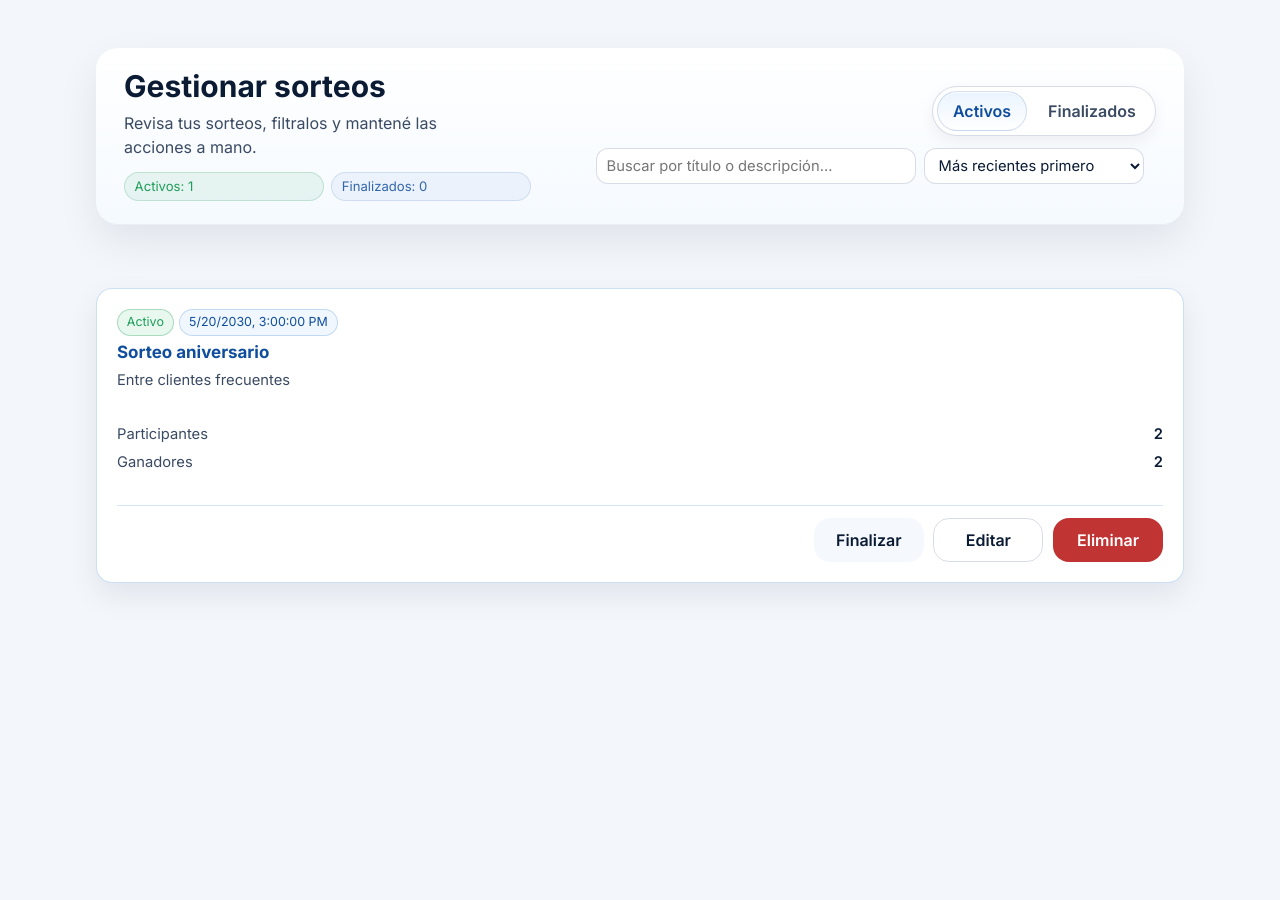
Scenario: ManageRaffles › abre el modal de edición con los datos cargados
The image size is (1280, 900).
Click the button "Editar" at (988, 540), box [933,518,1043,562]
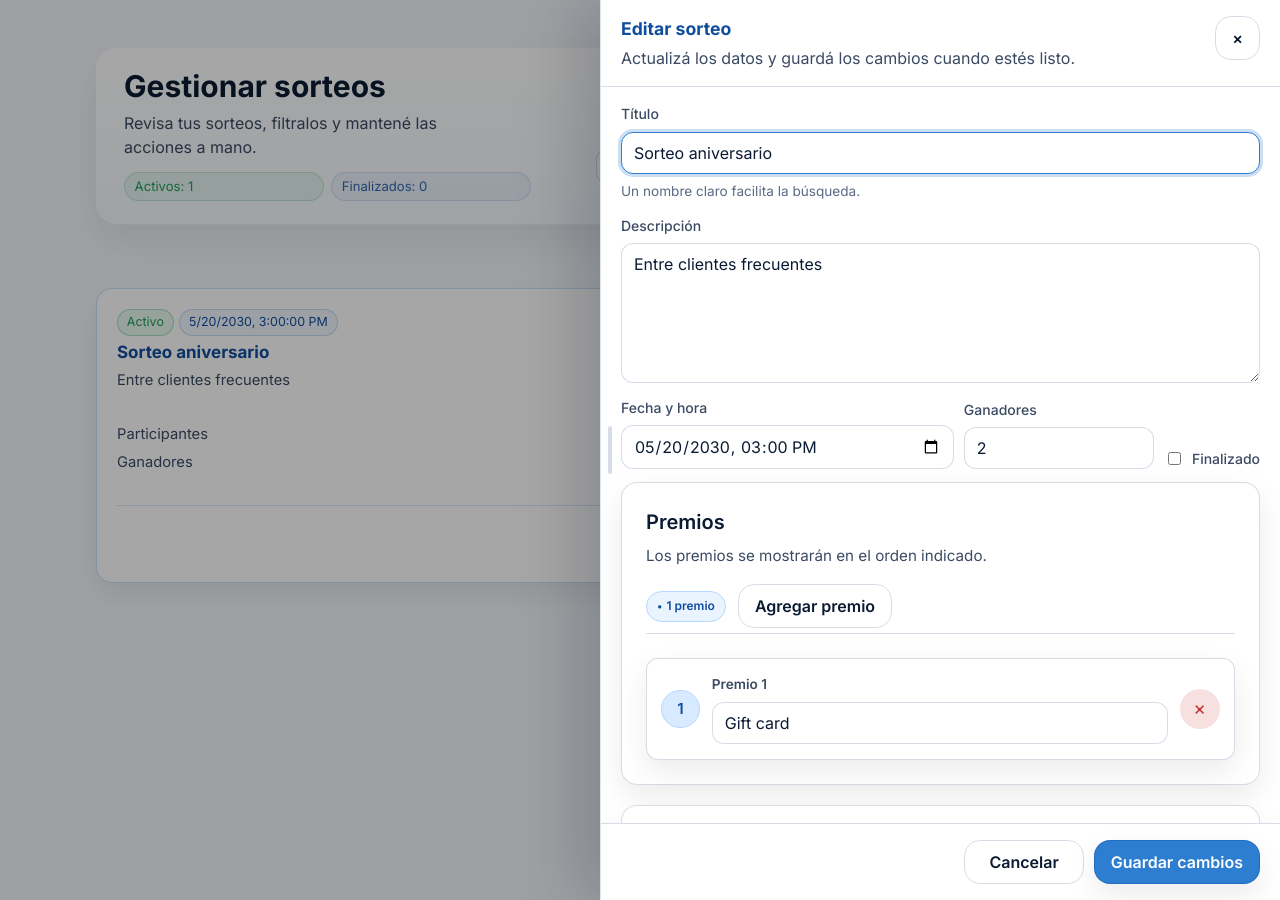
Expected: the dialog "Editar sorteo" is shown
Expected: the field labelled "Título" holds "Sorteo aniversario", [621,132,1260,174]
Expected: the button "Guardar cambios" is shown, [1094,840,1260,884]
